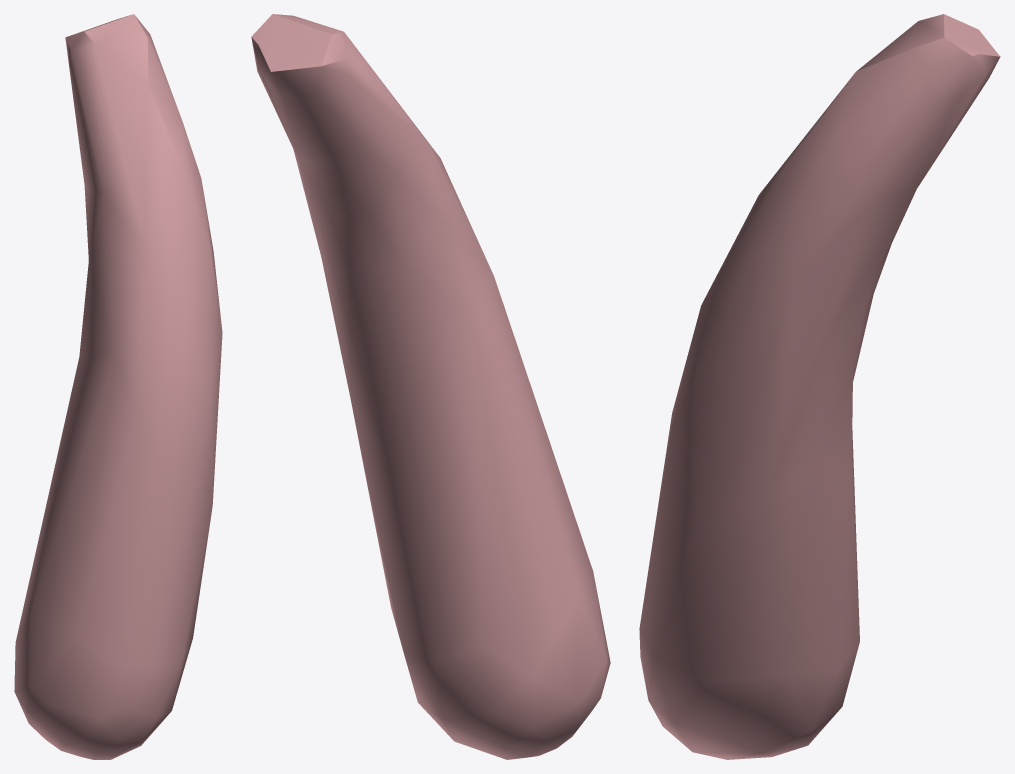
File: fma68211_fj6554.glb
3 views of the same model, side by side, from view 1: azimuth 30°, elevation 25°; view 2: azimuth 150°, elevation 25°; view 3: azimuth 270°, elevation 25° (orthographic). The views are drawn at different scales.
Visible parts, largest first — view 1: FMA68211_FJ6554; view 2: FMA68211_FJ6554; view 3: FMA68211_FJ6554.
Part boxes in pixels (bbox=[...]): FMA68211_FJ6554: bbox=[14, 14, 222, 759]; FMA68211_FJ6554: bbox=[251, 14, 610, 759]; FMA68211_FJ6554: bbox=[639, 14, 1000, 759].
Size of the model in its own units: 0.00249 by 0.00733 by 0.00303.
